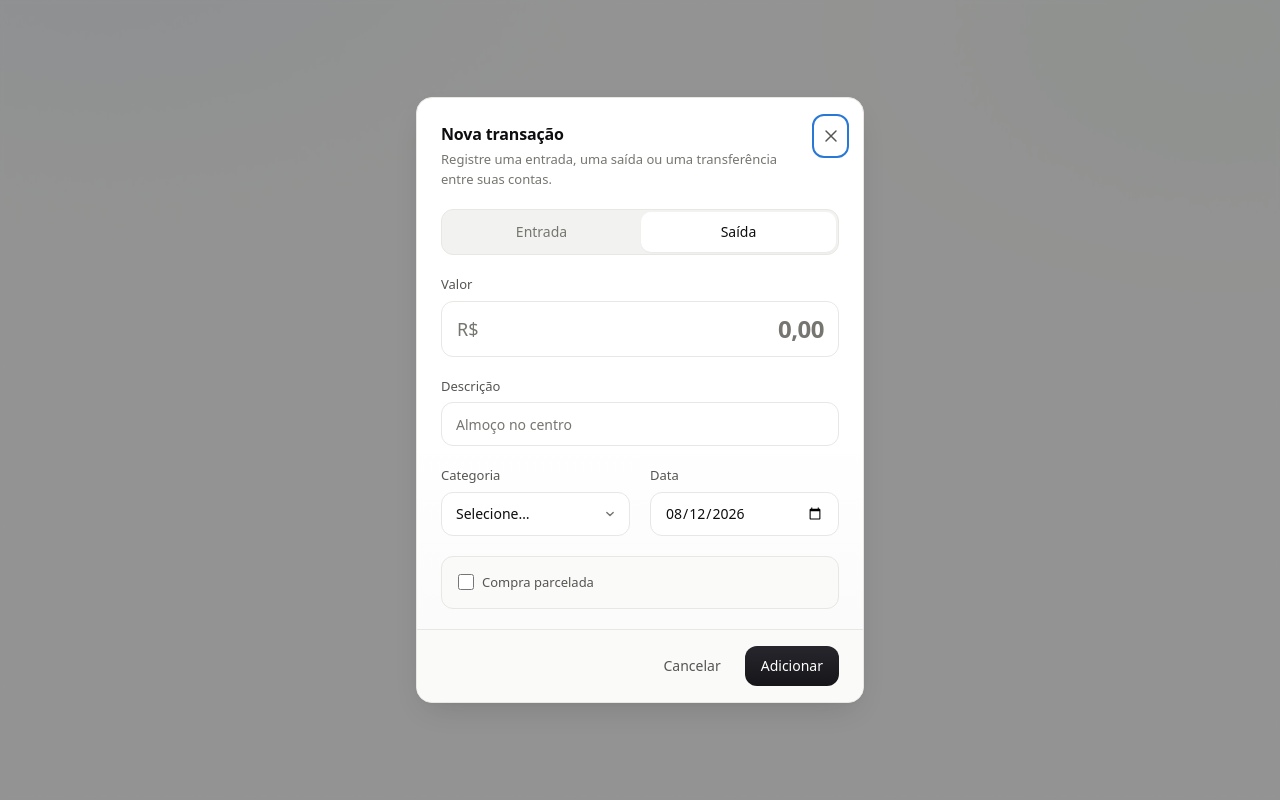
Test: diálogo de transação › bloqueia o envio e explica o que falta quando o formulário está incompleto
Click the button "Adicionar" at [792, 666], box [745,646,839,686]
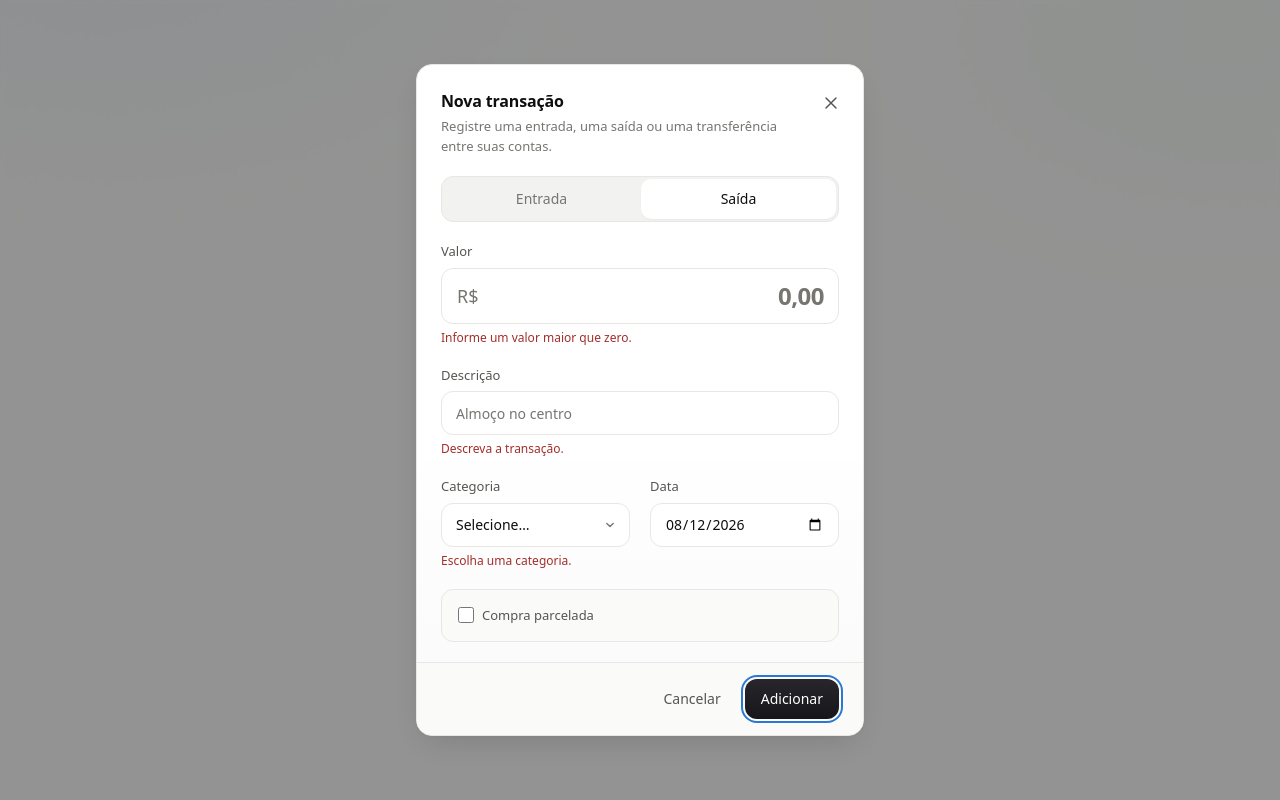
Expected: the text "Informe um valor maior que zero." is shown, [441,328,632,346]
Expected: the text "Descreva a transação." is shown, [441,440,564,457]
